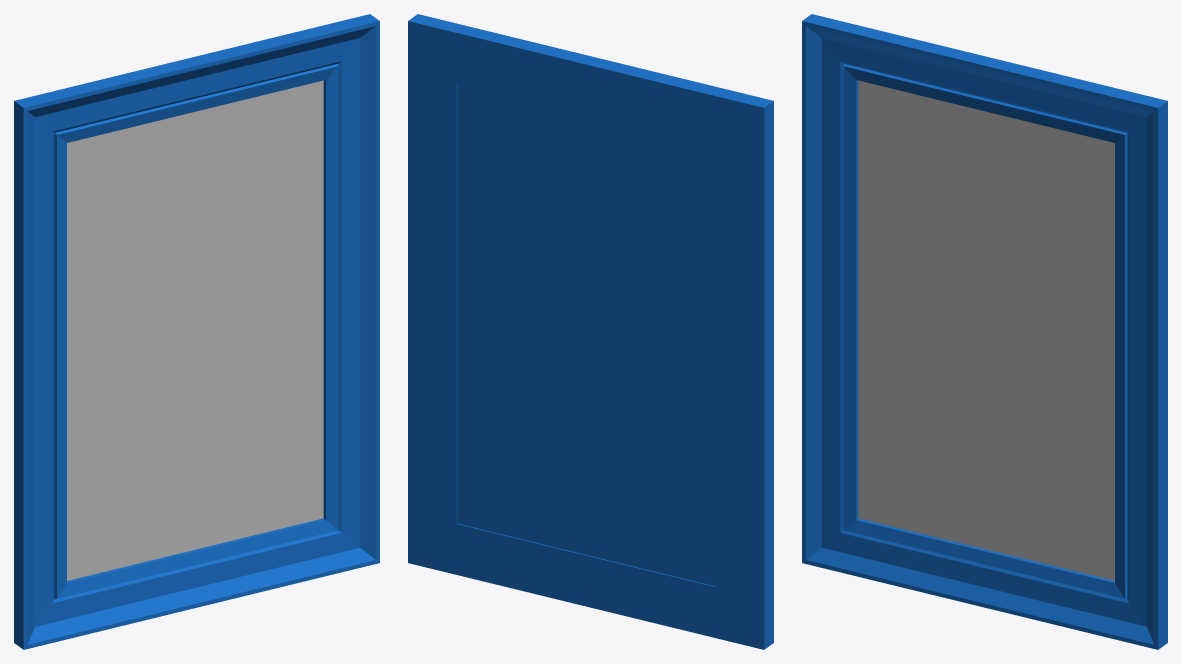
The model's file is SM_painting3.fbx.
3 renders of one model, left to right at view 1: azimuth 30°, elevation 25°; view 2: azimuth 150°, elevation 25°; view 3: azimuth 330°, elevation 25°, orthographic.
Parts seen in each view (by area): view 1: painting3; view 2: painting3; view 3: painting3.
Part boxes in pixels (bbox=[...]): painting3: bbox=[14, 14, 379, 649]; painting3: bbox=[408, 14, 773, 649]; painting3: bbox=[802, 14, 1167, 649].
Bounding box in the file's own units: 101 × 147 × 4.75.
